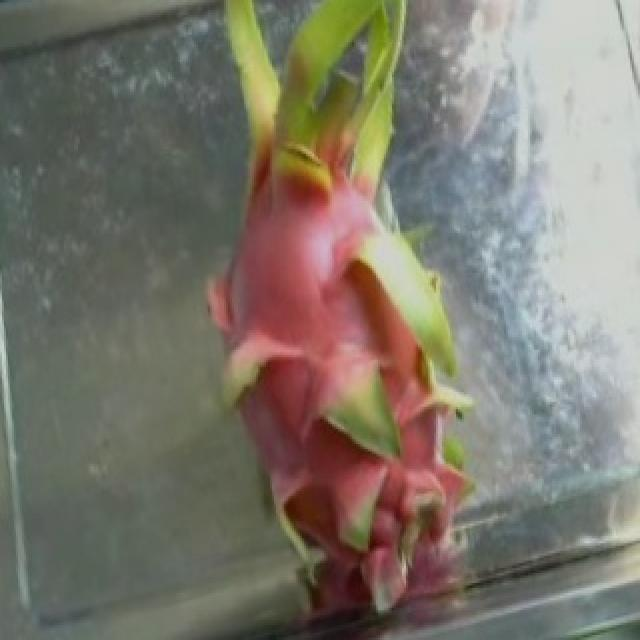fruit: (166, 166, 588, 635)
